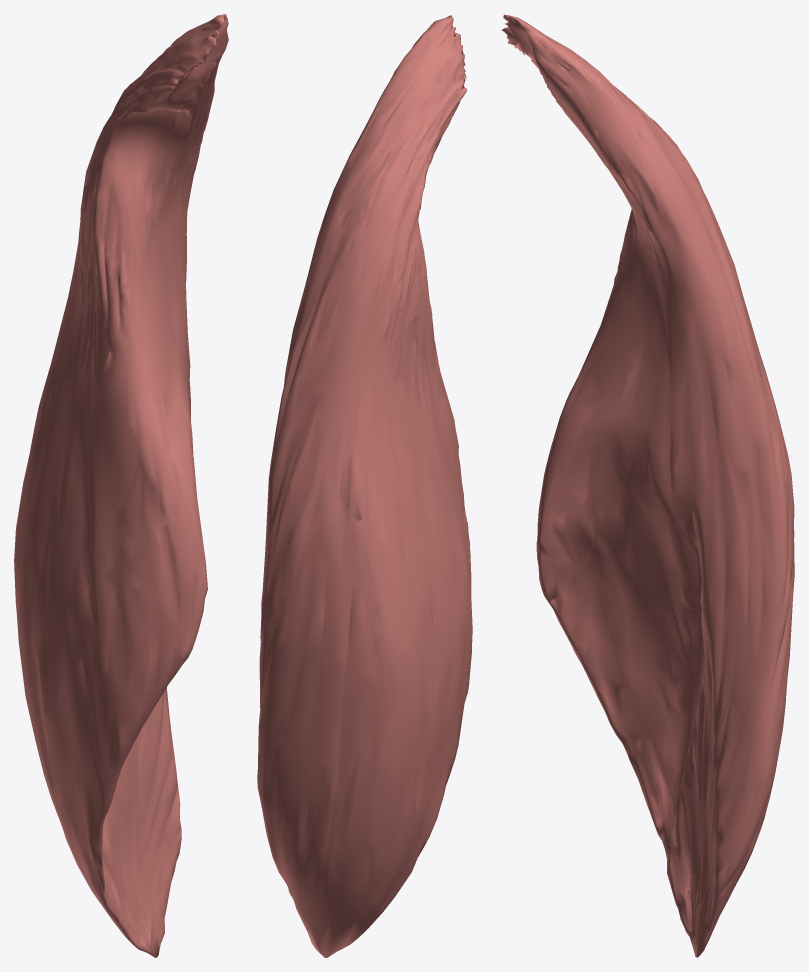
3 views of the same model, side by side, from view 1: azimuth 30°, elevation 25°; view 2: azimuth 150°, elevation 25°; view 3: azimuth 270°, elevation 25° (orthographic). The views are drawn at different scales.
Visible parts, largest first — view 1: ZA_a5d8eb10a862e1fc; view 2: ZA_a5d8eb10a862e1fc; view 3: ZA_a5d8eb10a862e1fc.
Boxes of the visible parts, x1,y1,x2,y2 form: ZA_a5d8eb10a862e1fc: [14, 14, 228, 957]; ZA_a5d8eb10a862e1fc: [257, 15, 472, 957]; ZA_a5d8eb10a862e1fc: [501, 14, 794, 957].
Size of the model in its own units: 0.0511 by 0.2997 by 0.086.
